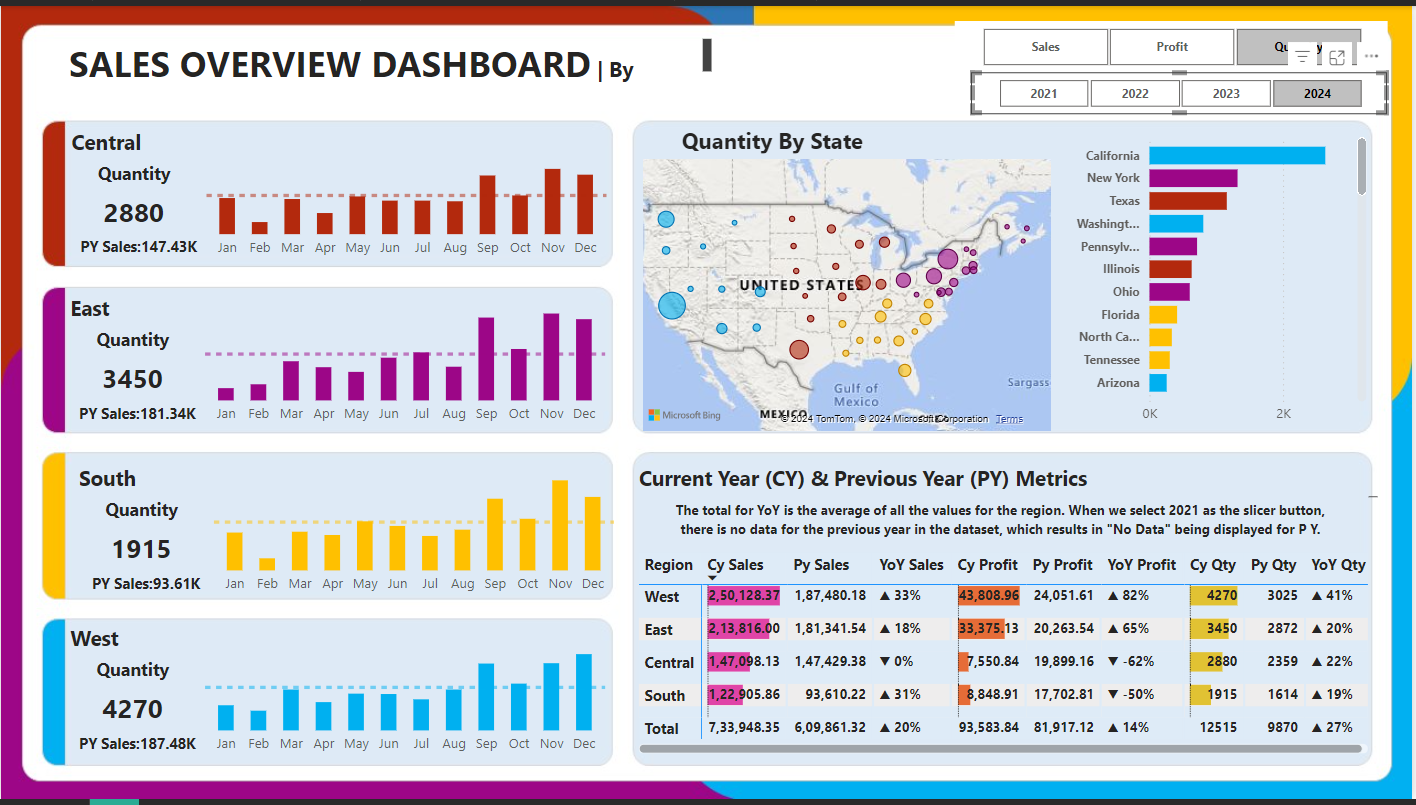

What the dashboard file says about the page in this screenshot:
{"tool":"powerbi","page":{"name":"Page 1","canvas":[1280,720],"ordinal":0},"visuals":[{"type":"slicer","fields":{"Values":["Select Metric.Select Metric"]},"box":[865.9,13.7,392.5,46.7],"z":0},{"type":"map","title":"Sales by State","fields":{"Size":["Sales Data.Total Quantity"],"Category":["Sales Data.State/Province"],"Series":["Sales Data.Region"]},"box":[577.7,133.1,380.1,256.6],"z":0,"group":"g5"},{"type":"slicer","fields":{"Values":["Calender Table.Year"]},"box":[879.6,60.4,378.7,38.4],"z":1000},{"type":"card","fields":{"Values":["Sales Data.Dynamic Map title"]},"box":[578.2,108.4,245.6,30.2],"z":1000,"group":"g5"},{"type":"card","fields":{"Values":["Sales Data.Total Quantity"]},"box":[52.1,170.2,137.2,35.7],"z":1000,"group":"g1"},{"type":"card","fields":{"Values":["Sales Data.Total Quantity"]},"box":[51,320.8,137.2,35.7],"z":1000,"group":"g2"},{"type":"card","fields":{"Values":["Sales Data.Total Quantity"]},"box":[59.3,475,137.2,35.7],"z":1000,"group":"g3"},{"type":"card","fields":{"Values":["Sales Data.Total Quantity"]},"box":[51,619.8,137.2,35.7],"z":1000,"group":"g4"},{"type":"textbox","box":[56.3,24.7,592.8,54.9],"z":2000},{"type":"textbox","box":[59,105.7,150.9,41.2],"z":2000,"group":"g1"},{"type":"textbox","box":[57.9,256.3,150.9,41.2],"z":2000,"group":"g2"},{"type":"textbox","box":[66.2,410.5,150.9,41.2],"z":2000,"group":"g3"},{"type":"textbox","box":[57.9,555.3,150.9,41.2],"z":2000,"group":"g4"},{"type":"group","id":"g1","title":"Group 1","box":[52.1,105.7,502.2,131.7],"z":3000},{"type":"card","fields":{"Values":["Sales Data.Dynamic title"]},"box":[61.7,137.3,119.4,32.9],"z":3000,"group":"g1"},{"type":"card","fields":{"Values":["Sales Data.Dynamic title"]},"box":[60.6,287.9,119.4,32.9],"z":3000,"group":"g2"},{"type":"card","fields":{"Values":["Sales Data.Dynamic title"]},"box":[68.9,442.1,119.4,32.9],"z":3000,"group":"g3"},{"type":"card","fields":{"Values":["Sales Data.Dynamic title"]},"box":[60.6,586.9,119.4,32.9],"z":3000,"group":"g4"},{"type":"group","id":"g2","title":"Group 1","box":[51,256.3,503.1,132.9],"z":4000},{"type":"card","fields":{"Values":["Sales Data.PY KPI Sales"]},"box":[61.7,205.9,127.6,31.6],"z":5000,"group":"g1"},{"type":"card","fields":{"Values":["Sales Data.PY KPI Sales"]},"box":[60.6,356.5,127.6,31.6],"z":5000,"group":"g2"},{"type":"group","id":"g3","title":"Group 1","box":[59.3,410.5,501.9,131.7],"z":5000},{"type":"card","fields":{"Values":["Sales Data.PY KPI Sales"]},"box":[68.9,510.7,127.6,31.6],"z":5000,"group":"g3"},{"type":"card","fields":{"Values":["Sales Data.PY KPI Sales"]},"box":[60.6,655.5,127.6,31.6],"z":5000,"group":"g4"},{"type":"clusteredColumnChart","fields":{"Y":["Sales Data.Total Quantity"],"Category":["Calender Table.Month"]},"box":[181.1,105.7,373.2,131.7],"z":6000,"group":"g1"},{"type":"clusteredColumnChart","fields":{"Y":["Sales Data.Total Quantity"],"Category":["Calender Table.Month"]},"box":[180,256.3,373.2,131.7],"z":6000,"group":"g2"},{"type":"clusteredColumnChart","fields":{"Y":["Sales Data.Total Quantity"],"Category":["Calender Table.Month"]},"box":[188.3,410.5,373.2,131.7],"z":6000,"group":"g3"},{"type":"group","id":"g4","title":"Group 1","box":[51,555.3,503.1,131.7],"z":6000},{"type":"clusteredColumnChart","fields":{"Y":["Sales Data.Total Quantity"],"Category":["Calender Table.Month"]},"box":[180,555.3,373.2,131.7],"z":6000,"group":"g4"},{"type":"group","id":"g5","title":"Group 2","box":[577.7,108.4,380.1,281.3],"z":7000},{"type":"barChart","fields":{"Y":["Sales Data.Total Quantity"],"Category":["Sales Data.State/Province"],"Series":["Sales Data.Region"]},"box":[957.8,107,286.8,281.3],"z":8000},{"type":"pivotTable","fields":{"Rows":["Sales Data.Region"],"Values":["Sales Data.Cy Sales","Sales Data.Py Sales","Sales Data.YoY Sales","Sales Data.Cy Profit","Sales Data.Py Profit","Sales Data.YoY Profit","Sales Data.Cy Qty","Sales Data.Py Qty","Sales Data.YoY Qty"]},"box":[573.6,491.3,671,192.1],"z":9000},{"type":"textbox","box":[579.1,441.9,654.5,49.4],"z":9001},{"type":"textbox","box":[603.8,440.5,650.4,11],"z":9002},{"type":"textbox","box":[573.6,410.3,625.7,45.3],"z":9003}]}

Visuals, with their boxes in screenshot pixels (x1, y1, x2, y2), scaled from the page's 1280x720 canvas onto the 1416x805 screenshot:
slicer - Select Metric.Select Metric: Rect(958, 15, 1392, 68)
"Sales by State" map: Rect(639, 149, 1060, 436)
slicer - Calender Table.Year: Rect(973, 68, 1392, 110)
card - Sales Data.Dynamic Map title: Rect(640, 121, 911, 155)
card - Sales Data.Total Quantity: Rect(58, 190, 209, 230)
card - Sales Data.Total Quantity: Rect(56, 359, 208, 399)
card - Sales Data.Total Quantity: Rect(66, 531, 217, 571)
card - Sales Data.Total Quantity: Rect(56, 693, 208, 733)
textbox: Rect(62, 28, 718, 89)
textbox: Rect(65, 118, 232, 164)
textbox: Rect(64, 287, 231, 333)
textbox: Rect(73, 459, 240, 505)
textbox: Rect(64, 621, 231, 667)
"Group 1" group: Rect(58, 118, 613, 265)
card - Sales Data.Dynamic title: Rect(68, 154, 200, 190)
card - Sales Data.Dynamic title: Rect(67, 322, 199, 359)
card - Sales Data.Dynamic title: Rect(76, 494, 208, 531)
card - Sales Data.Dynamic title: Rect(67, 656, 199, 693)
"Group 1" group: Rect(56, 287, 613, 435)
card - Sales Data.PY KPI Sales: Rect(68, 230, 209, 266)
card - Sales Data.PY KPI Sales: Rect(67, 399, 208, 434)
"Group 1" group: Rect(66, 459, 621, 606)
card - Sales Data.PY KPI Sales: Rect(76, 571, 217, 606)
card - Sales Data.PY KPI Sales: Rect(67, 733, 208, 768)
clusteredColumnChart - Sales Data.Total Quantity x Calender Table.Month: Rect(200, 118, 613, 265)
clusteredColumnChart - Sales Data.Total Quantity x Calender Table.Month: Rect(199, 287, 612, 434)
clusteredColumnChart - Sales Data.Total Quantity x Calender Table.Month: Rect(208, 459, 621, 606)
"Group 1" group: Rect(56, 621, 613, 768)
clusteredColumnChart - Sales Data.Total Quantity x Calender Table.Month: Rect(199, 621, 612, 768)
"Group 2" group: Rect(639, 121, 1060, 436)
barChart - Sales Data.Total Quantity x Sales Data.State/Province: Rect(1060, 120, 1377, 434)
pivotTable - Sales Data.Region x Sales Data.Cy Sales: Rect(635, 549, 1377, 764)
textbox: Rect(641, 494, 1365, 549)
textbox: Rect(668, 493, 1387, 505)
textbox: Rect(635, 459, 1327, 509)
